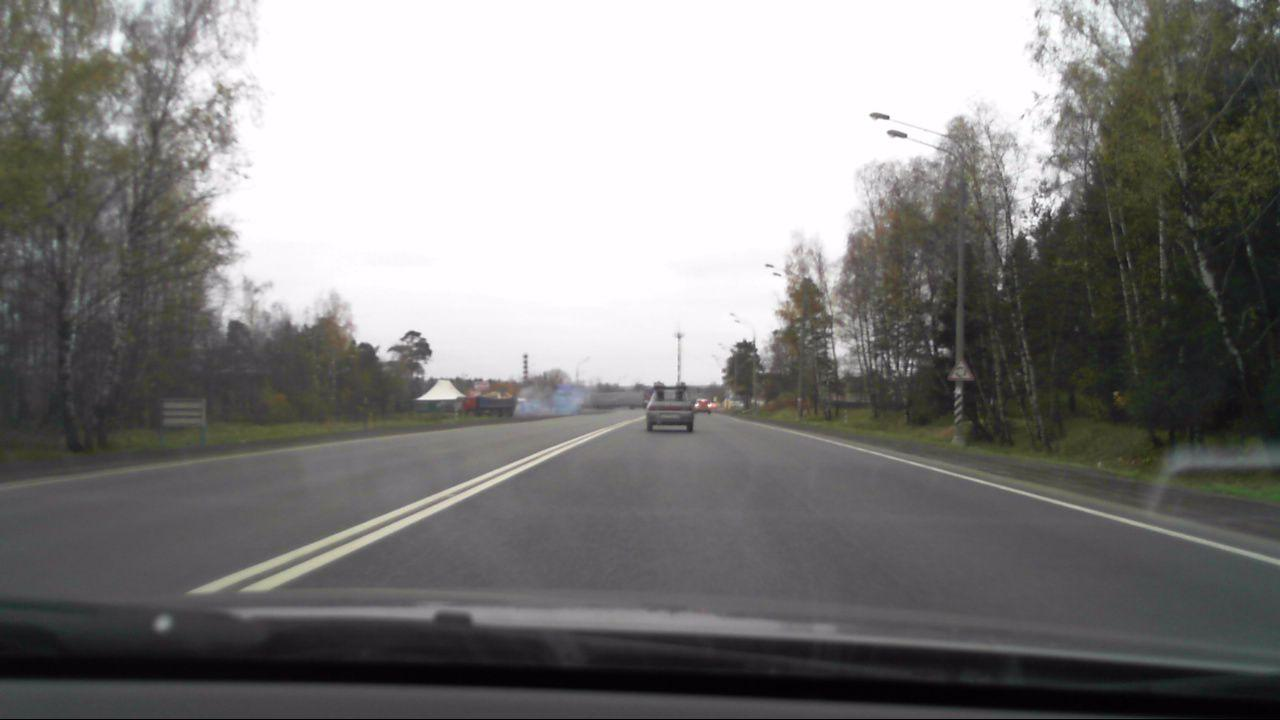1_7: (945, 359, 975, 382)
